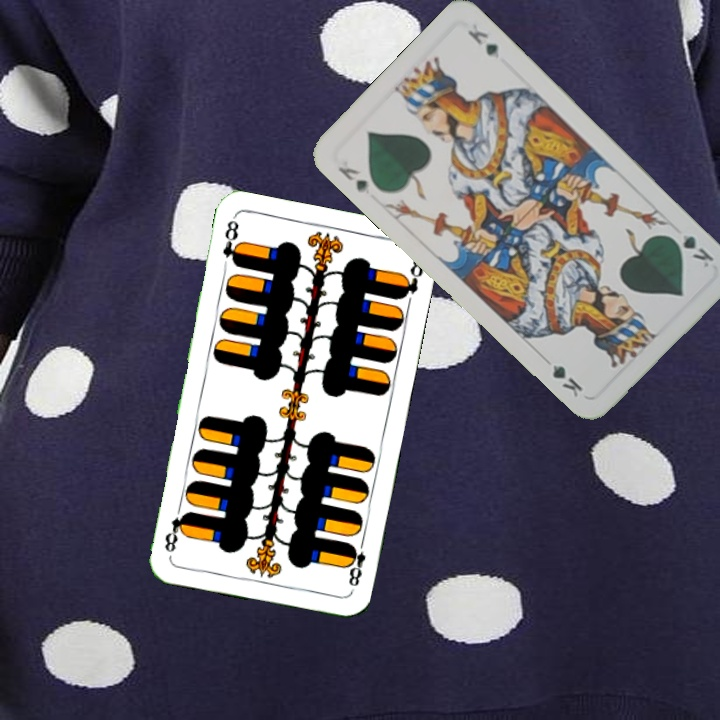E8: (342, 535, 368, 594), (218, 214, 244, 269)
GK: (665, 230, 717, 270), (333, 162, 371, 195)
